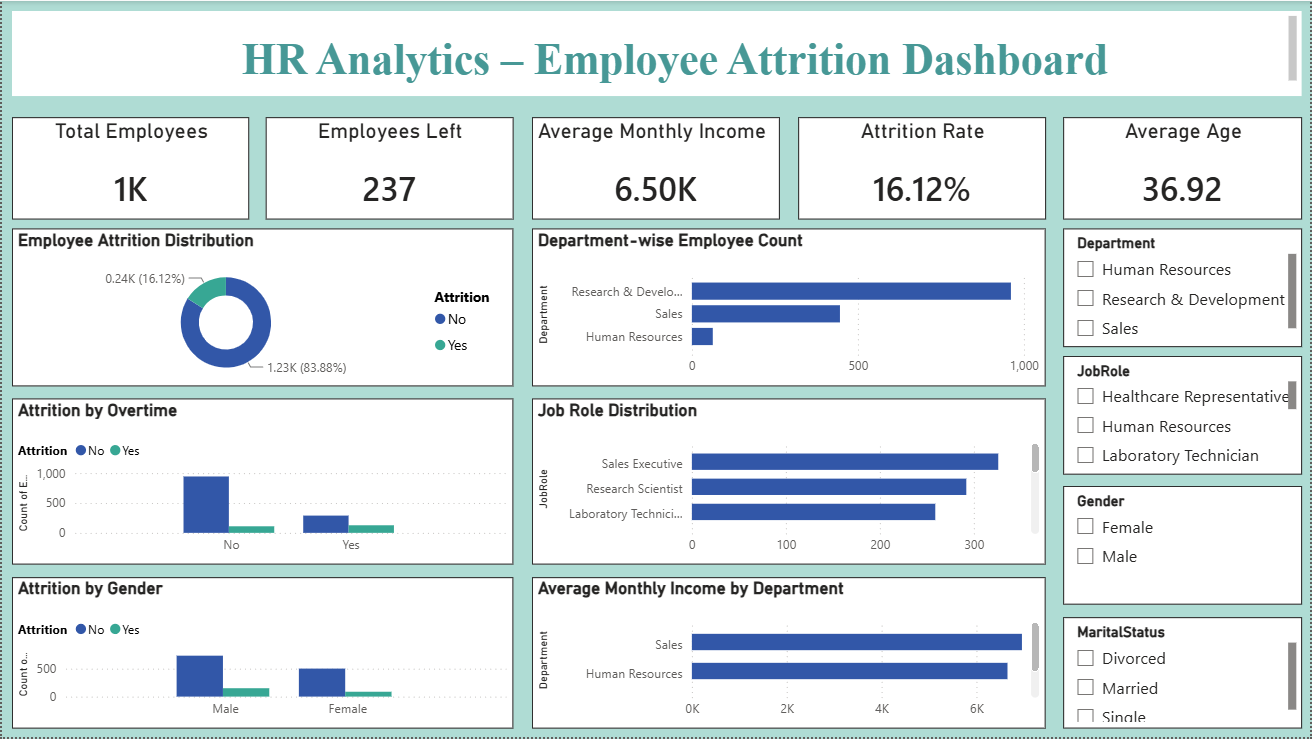

The page's visual inventory and layout, read from the dashboard file:
{"tool":"powerbi","page":{"name":"Page 1","canvas":[1280,720],"ordinal":0},"visuals":[{"type":"cardVisual","title":"Total Employees","fields":{"Data":["HR_Analytics.Total Employees"]},"box":[9.8,113.7,232.3,100.3],"z":0},{"type":"cardVisual","title":"Employees Left","fields":{"Data":["HR_Analytics.Employees Left"]},"box":[258,113.7,242.1,100.3],"z":1000},{"type":"cardVisual","title":"Attrition Rate","fields":{"Data":["HR_Analytics.Attrition Rate"]},"box":[778.9,113.7,242,100.3],"z":2000},{"type":"cardVisual","title":"Average Age","fields":{"Data":["HR_Analytics.Average Age"]},"box":[1038.2,113.7,233.6,100.3],"z":3000},{"type":"cardVisual","title":"Average Monthly Income","fields":{"Data":["HR_Analytics.Average Monthly Income"]},"box":[518.5,113.7,242.1,100.3],"z":4000},{"type":"donutChart","title":"Employee Attrition Distribution","fields":{"Category":["HR_Analytics.Attrition"],"Y":["CountNonNull(HR_Analytics.EmployeeNumber)"]},"box":[9.8,222.6,490.4,154.1],"z":5000},{"type":"clusteredBarChart","title":"Department-wise Employee Count","fields":{"Category":["HR_Analytics.Department"],"Y":["CountNonNull(HR_Analytics.EmployeeNumber)"]},"box":[518.5,222.6,502.6,154.1],"z":6000},{"type":"clusteredBarChart","title":"Job Role Distribution","fields":{"Category":["HR_Analytics.JobRole"],"Y":["CountNonNull(HR_Analytics.EmployeeNumber)"]},"box":[518.5,388.9,502.6,162.6],"z":7000},{"type":"clusteredColumnChart","title":"Attrition by Gender","fields":{"Category":["HR_Analytics.Gender"],"Series":["HR_Analytics.Attrition"],"Y":["CountNonNull(HR_Analytics.EmployeeNumber)"]},"box":[9.8,563.7,490.4,148],"z":8000},{"type":"clusteredColumnChart","title":"Attrition by Overtime","fields":{"Category":["HR_Analytics.OverTime"],"Y":["CountNonNull(HR_Analytics.EmployeeNumber)"],"Series":["HR_Analytics.Attrition"]},"box":[9.8,388.9,490.4,162.6],"z":9000},{"type":"clusteredBarChart","title":"Average Monthly Income by Department","fields":{"Category":["HR_Analytics.Department"],"Y":["Avg(HR_Analytics.MonthlyIncome)"]},"box":[518.5,563.7,502.6,148],"z":10000},{"type":"slicer","fields":{"Values":["HR_Analytics.Department"]},"box":[1038.2,222.6,233.6,116.2],"z":11000},{"type":"slicer","fields":{"Values":["HR_Analytics.Gender"]},"box":[1038.2,474.5,233.6,116.2],"z":12000},{"type":"slicer","fields":{"Values":["HR_Analytics.JobRole"]},"box":[1038.2,347.3,233.6,116.2],"z":13000},{"type":"slicer","fields":{"Values":["HR_Analytics.MaritalStatus"]},"box":[1038.2,602.9,233.6,108.8],"z":14000},{"type":"textbox","box":[9.8,9.8,1262,83.2],"z":15000}]}

Visuals, with their boxes in screenshot pixels (x1, y1, x2, y2), scaled from the page's 1280x720 canvas onto the 1312x739 screenshot:
"Total Employees" cardVisual: bbox=[10, 117, 248, 220]
"Employees Left" cardVisual: bbox=[264, 117, 513, 220]
"Attrition Rate" cardVisual: bbox=[798, 117, 1046, 220]
"Average Age" cardVisual: bbox=[1064, 117, 1304, 220]
"Average Monthly Income" cardVisual: bbox=[531, 117, 780, 220]
"Employee Attrition Distribution" donutChart: bbox=[10, 228, 513, 387]
"Department-wise Employee Count" clusteredBarChart: bbox=[531, 228, 1047, 387]
"Job Role Distribution" clusteredBarChart: bbox=[531, 399, 1047, 566]
"Attrition by Gender" clusteredColumnChart: bbox=[10, 579, 513, 730]
"Attrition by Overtime" clusteredColumnChart: bbox=[10, 399, 513, 566]
"Average Monthly Income by Department" clusteredBarChart: bbox=[531, 579, 1047, 730]
slicer - HR_Analytics.Department: bbox=[1064, 228, 1304, 348]
slicer - HR_Analytics.Gender: bbox=[1064, 487, 1304, 606]
slicer - HR_Analytics.JobRole: bbox=[1064, 356, 1304, 476]
slicer - HR_Analytics.MaritalStatus: bbox=[1064, 619, 1304, 730]
textbox: bbox=[10, 10, 1304, 95]
